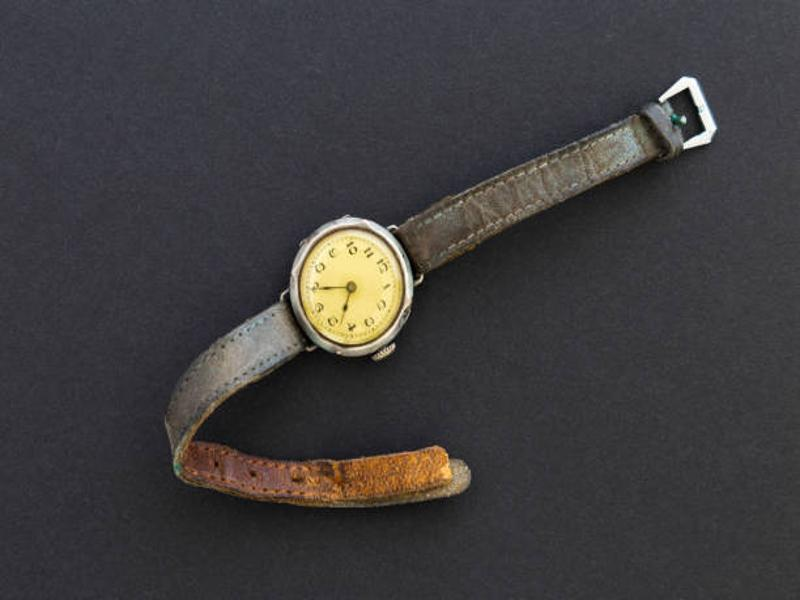watch: (164, 76, 720, 505)
